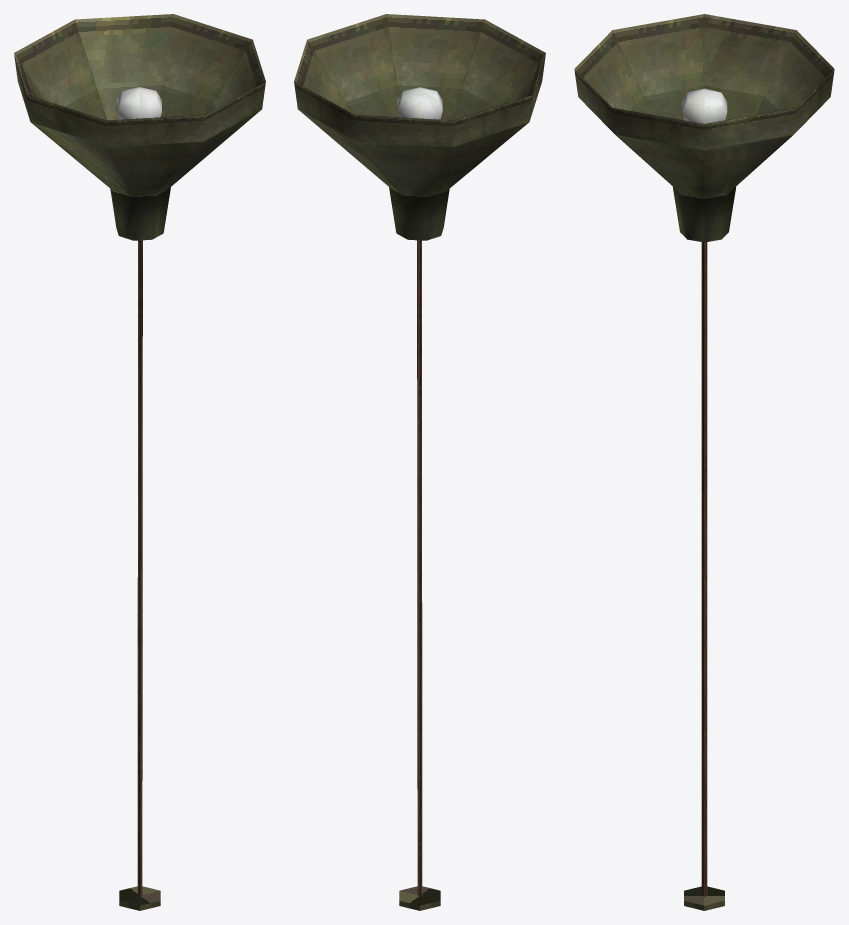
File: hanging_lampshade.fbx
3 renders of one model, left to right at view 1: azimuth 30°, elevation 25°; view 2: azimuth 150°, elevation 25°; view 3: azimuth 270°, elevation 25°, orthographic.
Parts seen in each view (by area): view 1: mesh_3, mesh_2, mesh_0; view 2: mesh_3, mesh_2, mesh_0; view 3: mesh_3, mesh_2, mesh_0.
Boxes of the visible parts, x1,y1,x2,y2 form: mesh_3: (14, 14, 265, 910); mesh_2: (137, 240, 142, 896); mesh_0: (117, 87, 161, 119); mesh_3: (294, 14, 545, 910); mesh_2: (417, 240, 422, 896); mesh_0: (397, 87, 442, 119); mesh_3: (574, 14, 834, 910); mesh_2: (701, 242, 707, 896); mesh_0: (682, 88, 727, 123).
Size of the model in its own units: 44.8 by 158 by 44.8.
Materials: 4 (4 with a texture image).
